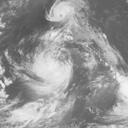cyclone: (33, 47, 73, 82), (46, 1, 82, 22)
